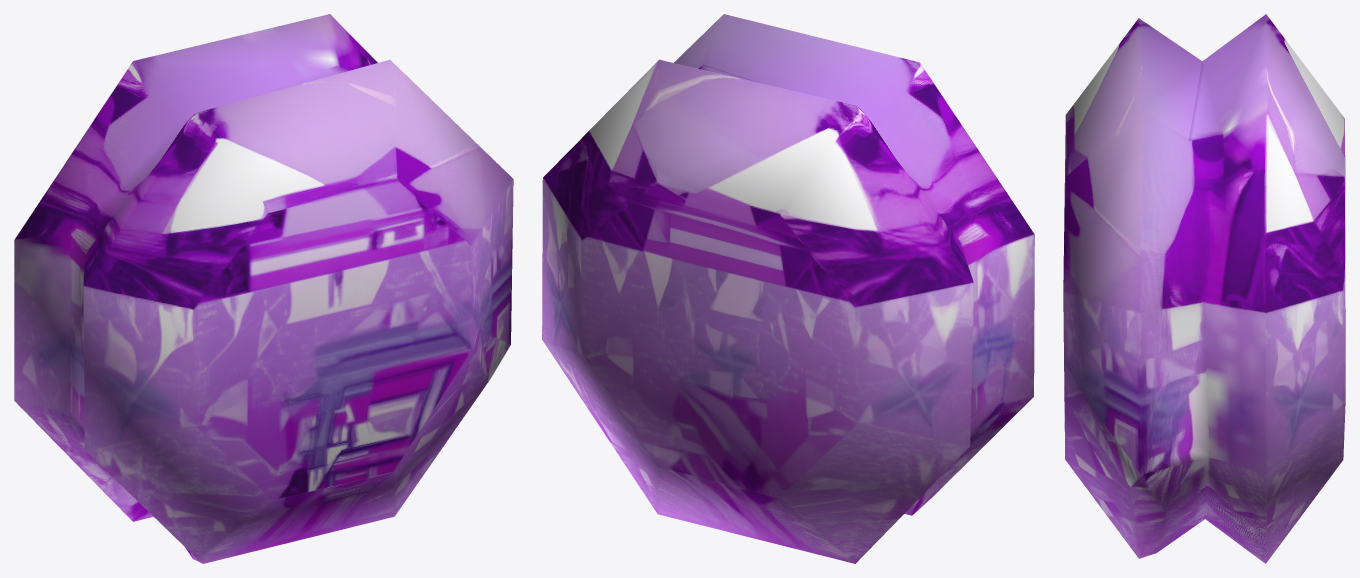
The model's file is gem.glb.
3 renders of one model, left to right at view 1: azimuth 30°, elevation 25°; view 2: azimuth 150°, elevation 25°; view 3: azimuth 270°, elevation 25°, orthographic.
Size of the model in its own units: 1.93 by 1.95 by 1.1.
Materials: 1 (1 with a texture image).
